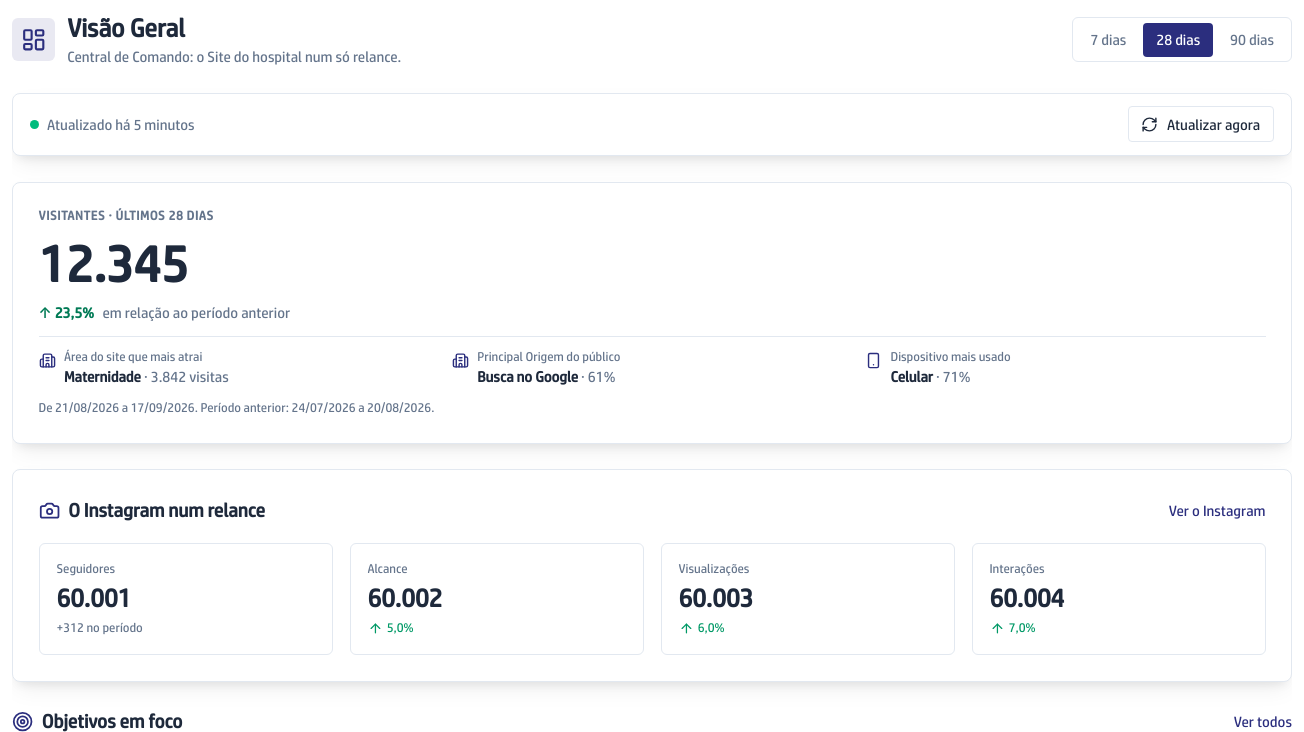
Scenario: Visão Geral: o Atualizar agora › enquanto atualiza, diz 'Atualizando…' e os números de antes continuam na tela
The width and height of the screenshot is (1304, 732).
Expected: the text "12.345" is shown, [38,234,188,293]
Click the button "Atualizar agora": (1201, 124) [1128,106,1274,142]
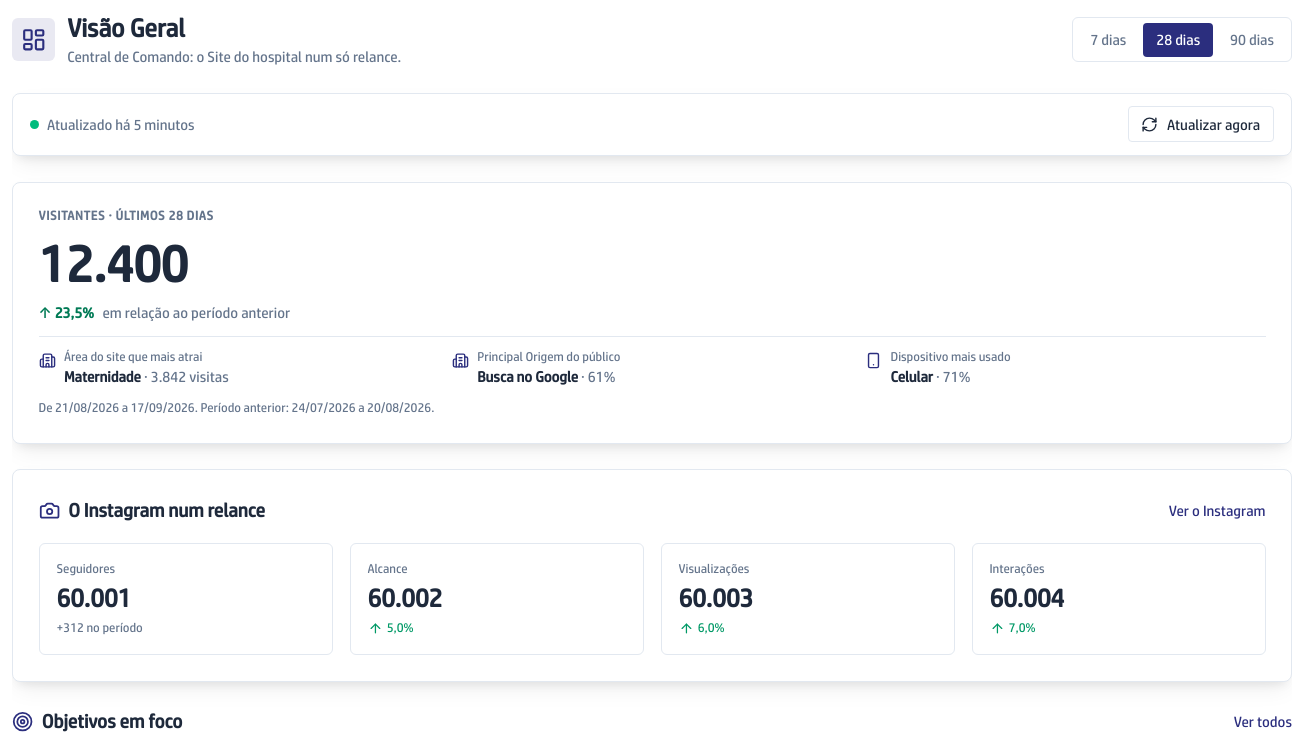
Expected: the text "12.400" is shown, [38,234,188,293]
